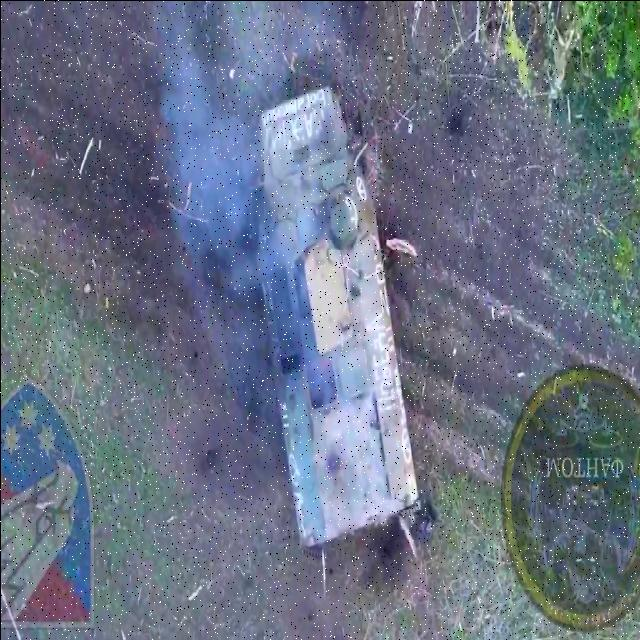APC-IFV: (255, 84, 422, 596)
